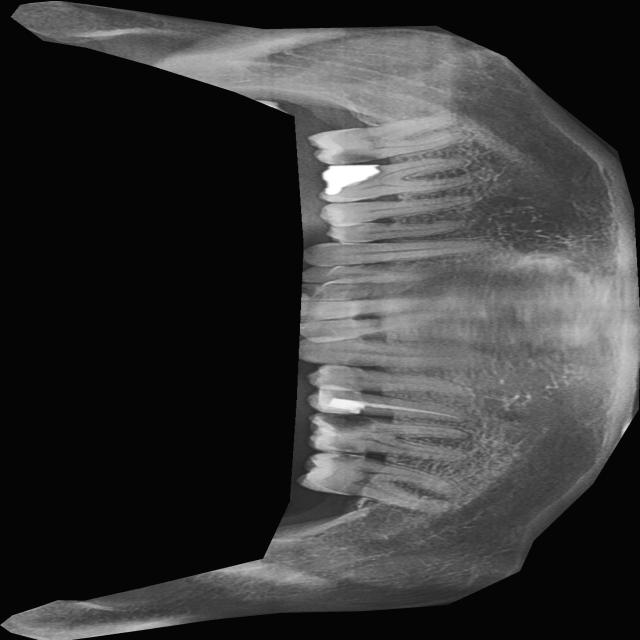mandibula: (0, 0, 640, 640)
